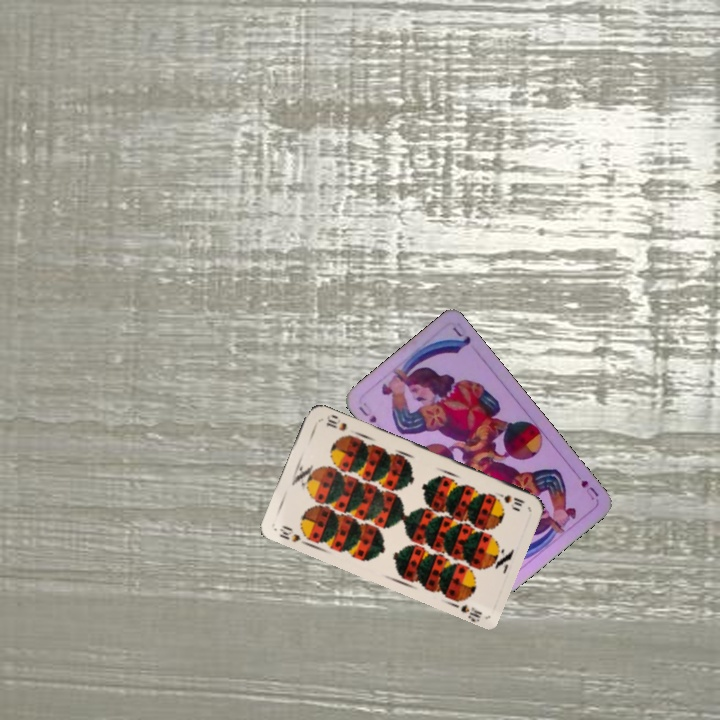S10: (275, 521, 311, 548), (491, 488, 528, 509)
SU: (576, 476, 601, 503), (355, 398, 379, 426)
